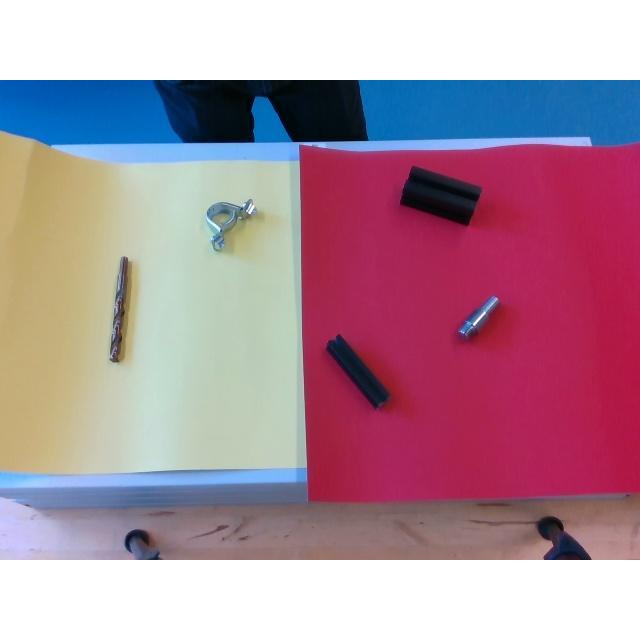Axis2: (458, 294, 500, 338)
Drill: (110, 256, 130, 360)
F20_20_B: (327, 336, 389, 404)
Housing: (206, 200, 258, 250)
S40_40_B: (400, 166, 482, 224)
